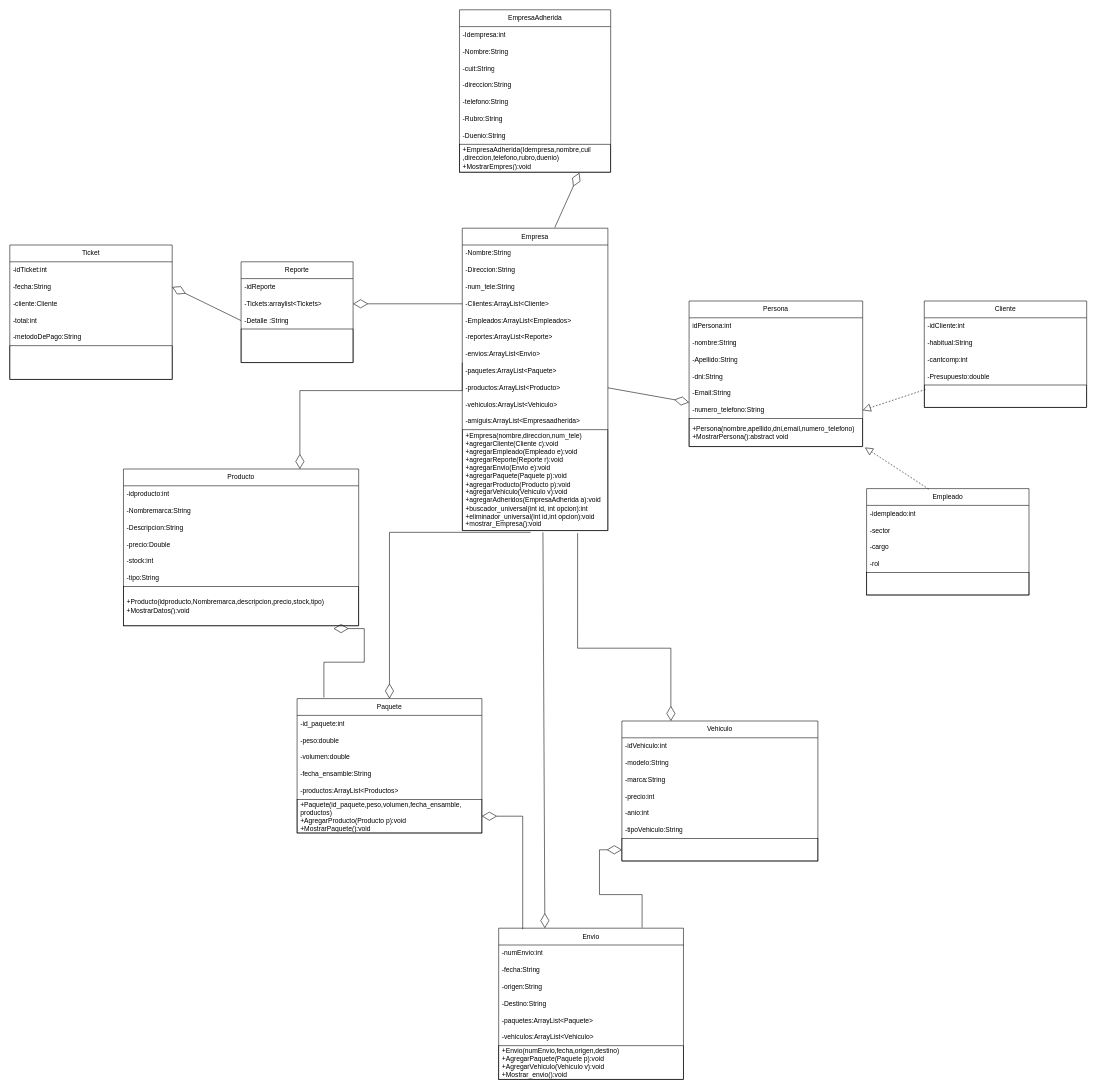
This 1096x1089 diagram has some shape labels left out. The box of each missing label's shape, as (x1, y1, x2, y2) in pixels:
+Cliente(habitual,cantcomp,presupuesto+persona) +MostrarPersona():void: (924, 384, 1087, 407)
+Empleado(idEmpleado,sector,cargo,rol+persona) +MostrarPersona():void: (866, 572, 1029, 595)
+Reporte(idReporte,Detalle) +mostrarReporte():void +AgregarTicket():void: (241, 328, 353, 363)
+Ticket(idTicket,cliente,fecha,total,metododePago) +mostraTicket():void: (9, 345, 172, 379)
+Vehiculo(idVehiculo,modelo,marca,precio,anio) +mostrar():void: (621, 838, 818, 861)
